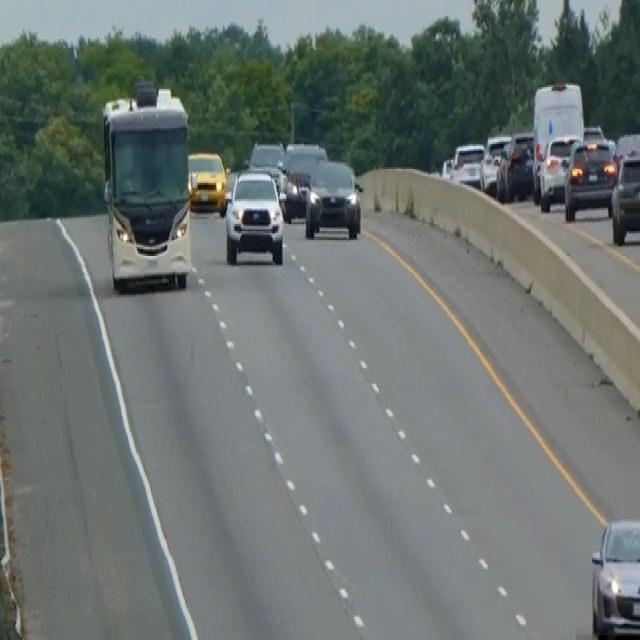bus: (99, 79, 194, 294)
car: (589, 514, 639, 638), (223, 165, 284, 265), (304, 155, 362, 240), (563, 135, 617, 221), (279, 139, 327, 222), (537, 132, 581, 210), (609, 147, 639, 245), (495, 133, 535, 201), (187, 148, 226, 212), (247, 138, 285, 194), (479, 132, 511, 194), (281, 167, 312, 222), (449, 140, 484, 188)
